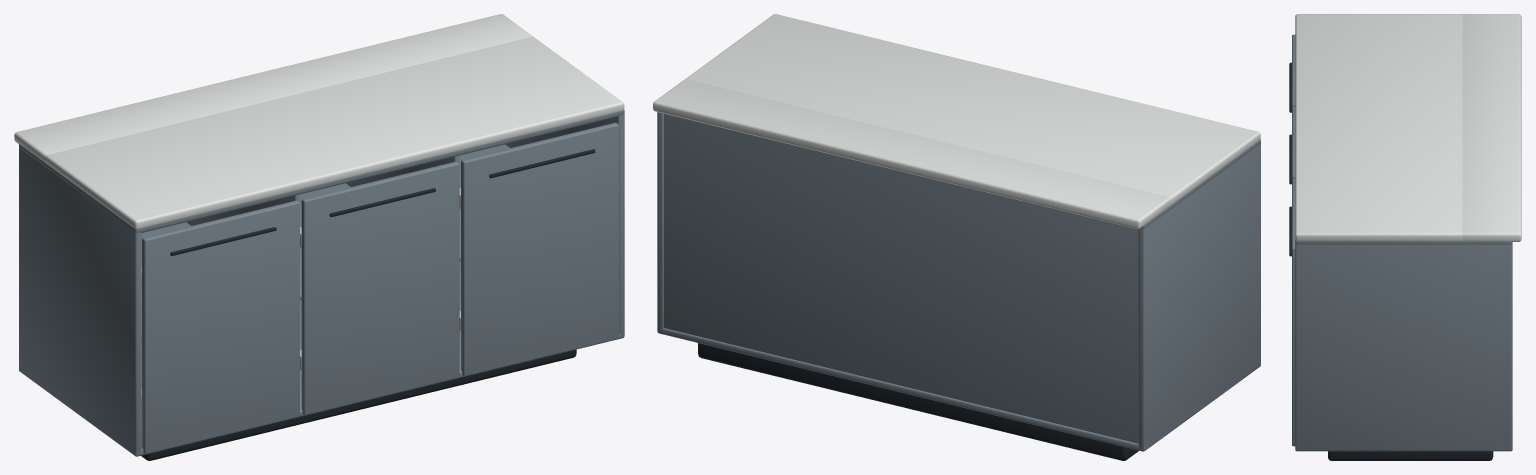
The model's file is steel-prep-island.glb.
3 views of the same model, side by side, from view 1: azimuth 30°, elevation 25°; view 2: azimuth 150°, elevation 25°; view 3: azimuth 270°, elevation 25° (orthographic). The views are drawn at different scales.
Visible parts, largest first — view 1: steel-prep-island; view 2: steel-prep-island; view 3: steel-prep-island.
Boxes of the visible parts, box(x1,y1,x2,y2) form: steel-prep-island: box(14, 14, 624, 460); steel-prep-island: box(653, 14, 1260, 460); steel-prep-island: box(1289, 14, 1521, 460).
Bounding box in the file's own units: 1.8 × 0.92 × 0.8.
